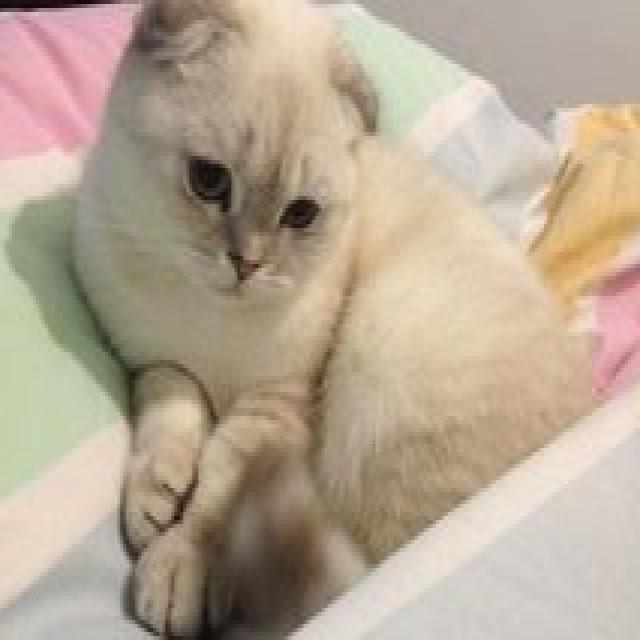Scottish Fold: (57, 0, 601, 640)
